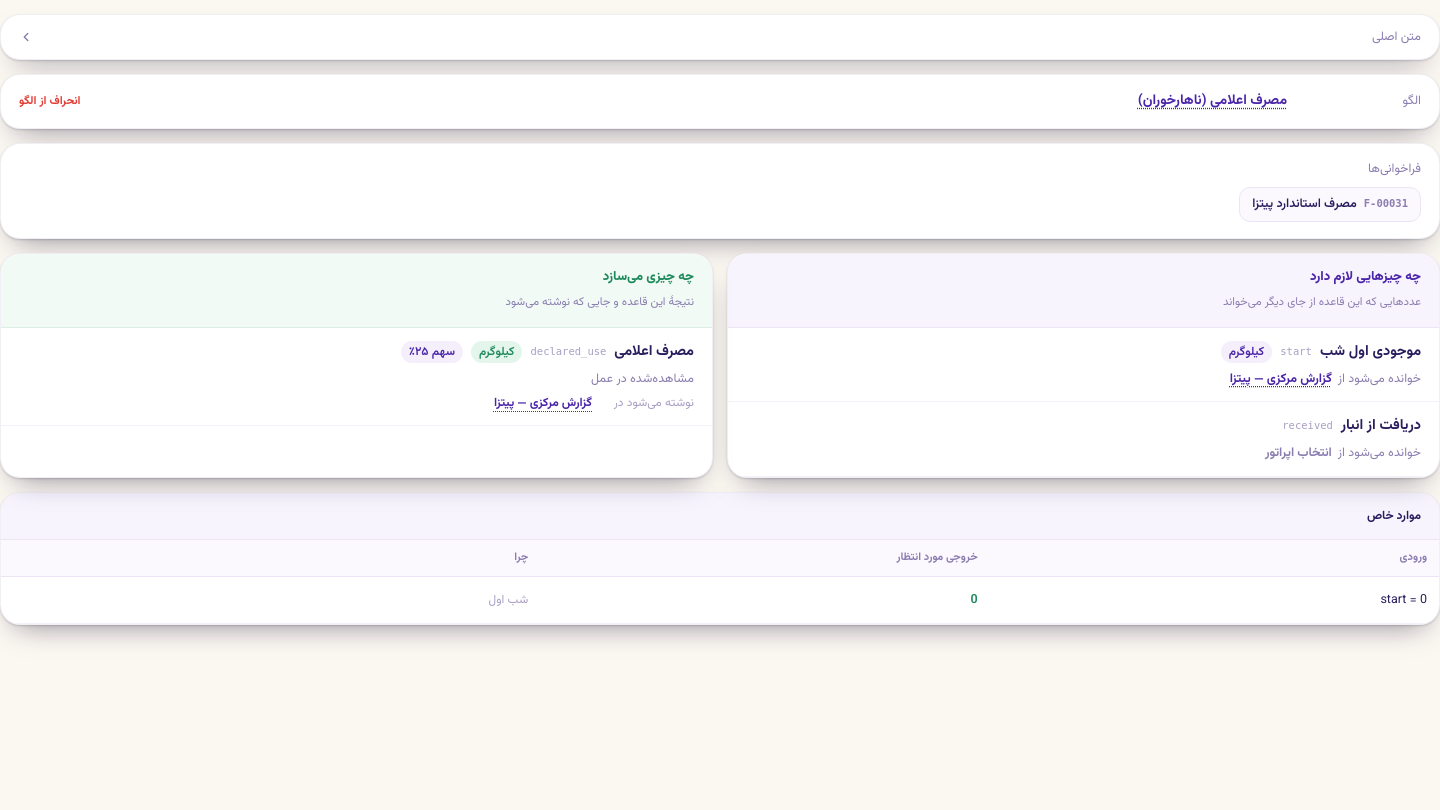
Test: the rule card › shows the served file’s text, in a box that scrolls rather than grows
Click the button "متن اصلی" at (1397, 37), box [1, 15, 1439, 59]
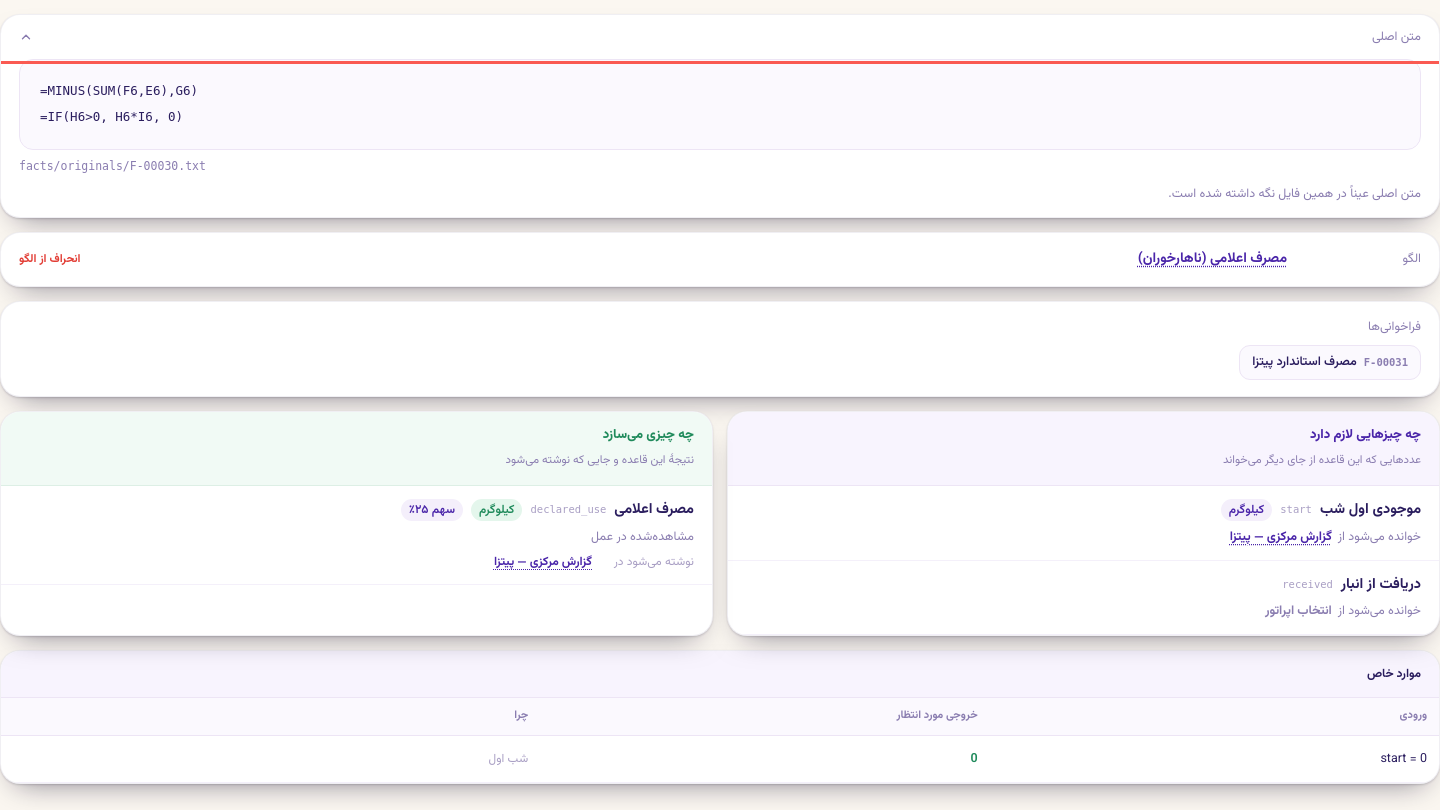
Expected: the text with class "max-h-popover" shows "=MINUS(SUM(F6,E6),G6)", [40, 83, 198, 124]
Expected: the text "facts/originals/F-00030.txt" is shown, [19, 158, 206, 172]
